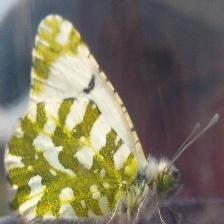butterfly: (4, 15, 178, 220)
